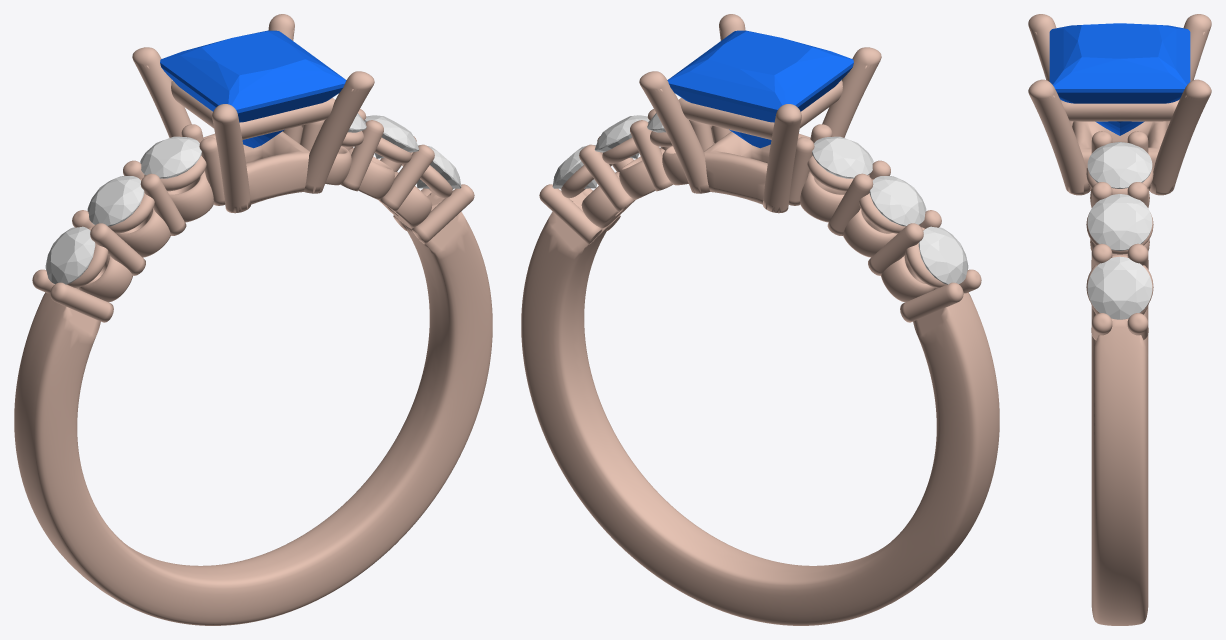
The model's file is bluesapphire-princess-rosegold-4prong-straightband-7stone.glb.
The picture shows the model from 3 angles, left to right: view 1: azimuth 30°, elevation 25°; view 2: azimuth 150°, elevation 25°; view 3: azimuth 270°, elevation 25°; orthographic projection.
Parts seen in each view (by area): view 1: metal, stone, side, side.001, side.002, side.004, side.005; view 2: metal, stone, side, side.001, side.002, side.004, side.005; view 3: metal, stone, side.005, side.004, side.003.
Part boxes in pixels (box(x1,y1,x2,y2)): metal: box(14, 14, 492, 625); stone: box(160, 30, 346, 148); side: box(45, 226, 95, 284); side.001: box(87, 176, 144, 226); side.002: box(140, 136, 201, 178); side.004: box(364, 115, 419, 158); side.005: box(416, 145, 461, 188); metal: box(521, 14, 999, 625); stone: box(667, 30, 853, 148); side: box(918, 226, 968, 284); side.001: box(869, 176, 926, 226); side.002: box(812, 136, 873, 178); side.004: box(594, 115, 649, 158); side.005: box(552, 145, 597, 188); metal: box(1028, 14, 1211, 625); stone: box(1049, 23, 1190, 135); side.005: box(1087, 256, 1152, 319); side.004: box(1087, 194, 1152, 250); side.003: box(1087, 142, 1152, 188).
Size of the model in its own units: 20.51 by 23.85 by 7.08.
